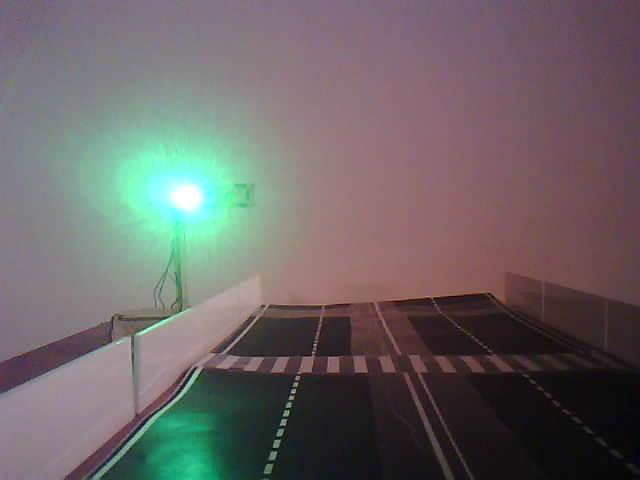crosswalk: (183, 335, 632, 385)
green: (146, 175, 265, 265)
